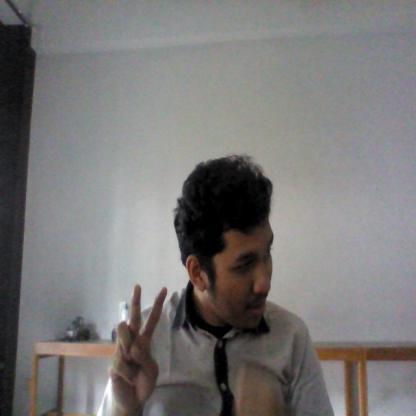V: (106, 283, 168, 416)
